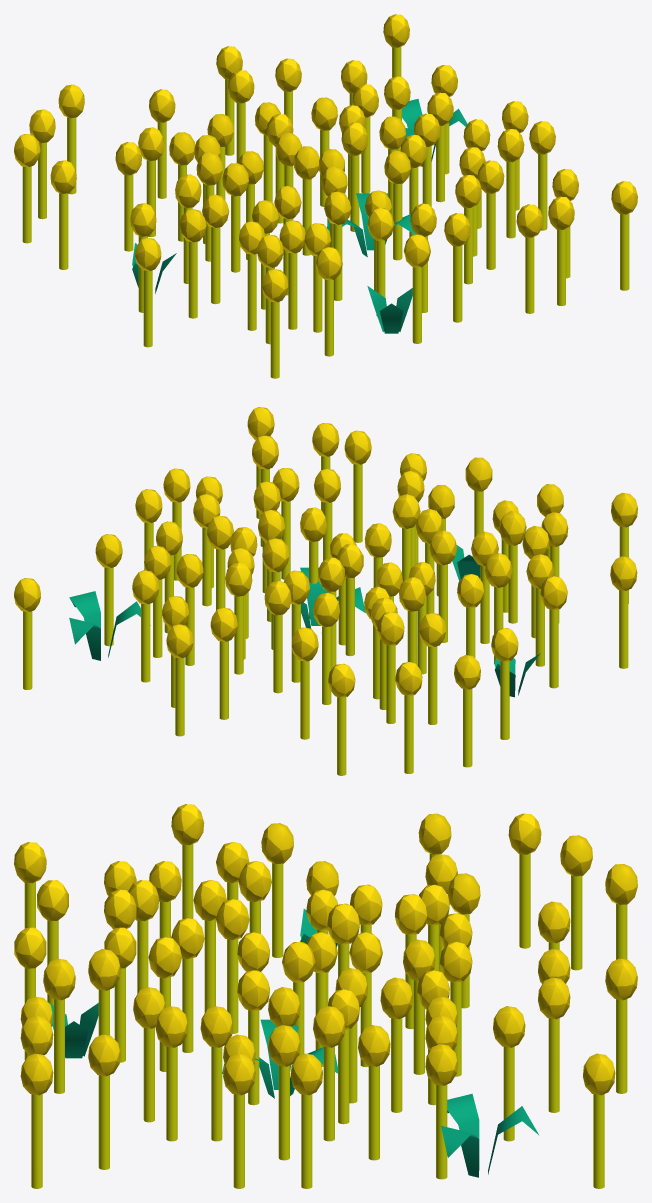
The model's file is FieldSmall.fbx.
3 views of the same model, one above another, from view 1: azimuth 30°, elevation 25°; view 2: azimuth 150°, elevation 25°; view 3: azimuth 270°, elevation 25° (orthographic). The views are drawn at different scales.
Parts seen in each view (by area): view 1: mergedBlocks; view 2: mergedBlocks; view 3: mergedBlocks.
Part boxes in pixels (bbox=[...]): mergedBlocks: bbox=[14, 14, 637, 378]; mergedBlocks: bbox=[14, 407, 637, 775]; mergedBlocks: bbox=[14, 804, 637, 1188].
Size of the model in its own units: 27.97 by 6.5 by 27.75.
